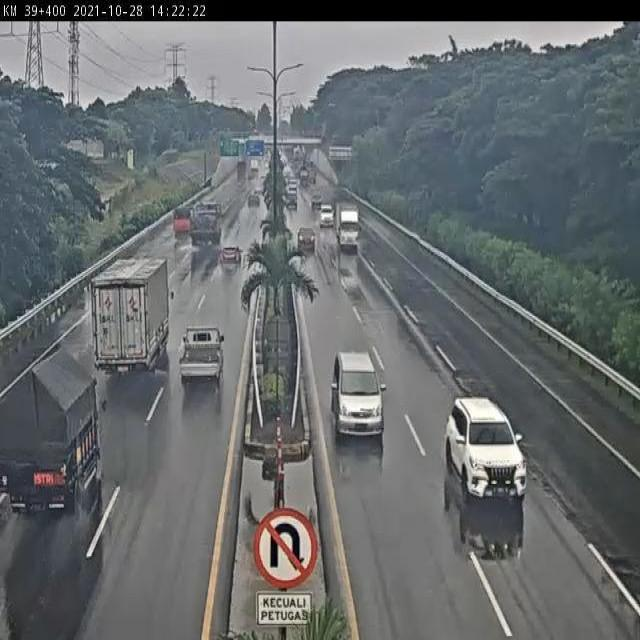car: (442, 393, 530, 503), (177, 323, 228, 389)
truck-l-: (92, 253, 173, 372), (187, 200, 225, 249)
truck-m-: (0, 351, 104, 513)
truck-s-: (334, 198, 363, 254), (172, 201, 193, 243)
